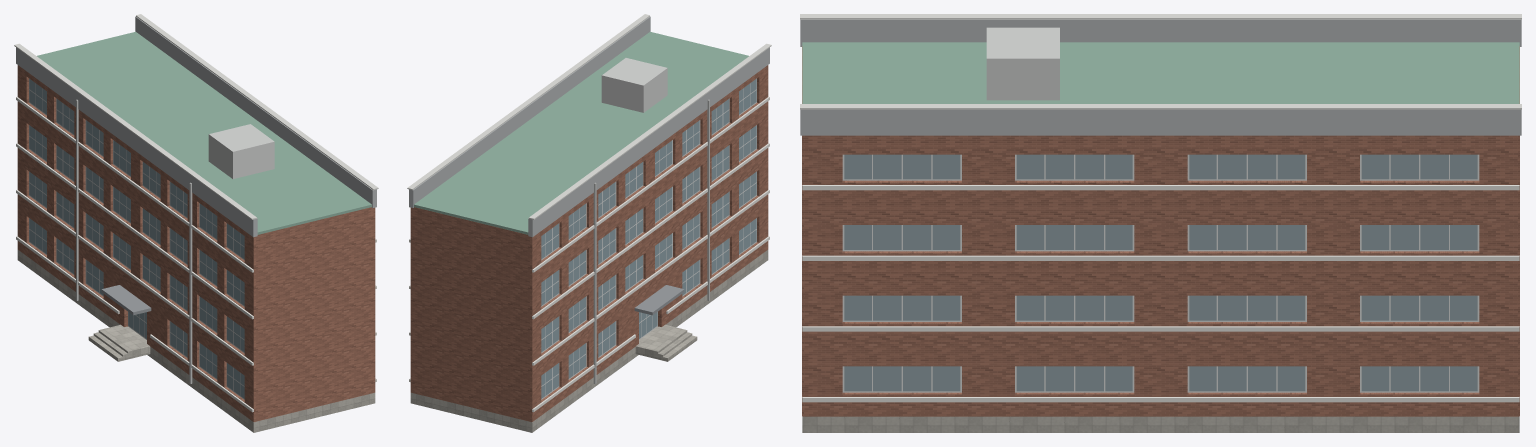
3 views of the same model, side by side, from view 1: azimuth 30°, elevation 25°; view 2: azimuth 150°, elevation 25°; view 3: azimuth 270°, elevation 25° (orthographic). The views are drawn at different scales.
Visible parts, largest first — view 1: west-wing__brick, west-wing__greenroof, west-wing__glass, west-wing__greypanel, west-wing__band, west-wing__frame, west-wing__stone, west-wing__cap, west-wing__roofbox, west-wing__gutter, west-wing__stair-west, west-wing__canopy (+1 smaller); view 2: west-wing__brick, west-wing__greenroof, west-wing__glass, west-wing__greypanel, west-wing__band, west-wing__frame, west-wing__stone, west-wing__cap, west-wing__roofbox, west-wing__gutter, west-wing__stair-west, west-wing__canopy (+1 smaller); view 3: west-wing__brick, west-wing__sideglass, west-wing__greenroof, west-wing__greypanel, west-wing__band, west-wing__stone, west-wing__cap, west-wing__frame, west-wing__roofbox.
Part boxes in pixels (bbox=[...]): west-wing__brick: bbox=[17, 65, 375, 421]; west-wing__greenroof: bbox=[37, 31, 371, 234]; west-wing__glass: bbox=[29, 79, 244, 398]; west-wing__greypanel: bbox=[16, 16, 376, 237]; west-wing__band: bbox=[16, 97, 376, 412]; west-wing__frame: bbox=[29, 78, 244, 399]; west-wing__stone: bbox=[17, 250, 375, 432]; west-wing__cap: bbox=[14, 14, 378, 219]; west-wing__roofbox: bbox=[208, 124, 274, 178]; west-wing__gutter: bbox=[76, 99, 192, 383]; west-wing__stair-west: bbox=[88, 329, 132, 361]; west-wing__canopy: bbox=[101, 285, 151, 315]; west-wing__brick: bbox=[410, 65, 768, 421]; west-wing__greenroof: bbox=[414, 31, 748, 234]; west-wing__glass: bbox=[541, 79, 756, 398]; west-wing__greypanel: bbox=[409, 16, 769, 237]; west-wing__band: bbox=[409, 97, 769, 412]; west-wing__frame: bbox=[541, 78, 756, 399]; west-wing__stone: bbox=[410, 250, 768, 432]; west-wing__cap: bbox=[407, 14, 771, 219]; west-wing__roofbox: bbox=[601, 58, 667, 112]; west-wing__gutter: bbox=[593, 99, 709, 383]; west-wing__stair-west: bbox=[653, 329, 697, 361]; west-wing__canopy: bbox=[634, 285, 684, 315]; west-wing__brick: bbox=[802, 46, 1519, 416]; west-wing__sideglass: bbox=[844, 154, 1477, 391]; west-wing__greenroof: bbox=[802, 42, 1519, 103]; west-wing__greypanel: bbox=[800, 19, 1521, 135]; west-wing__band: bbox=[802, 185, 1519, 402]; west-wing__stone: bbox=[802, 416, 1519, 432]; west-wing__cap: bbox=[800, 14, 1521, 109]; west-wing__frame: bbox=[842, 154, 1479, 392]; west-wing__roofbox: bbox=[986, 27, 1059, 100].
Bounding box in the file's own units: 11.97 × 16.59 × 31.49.
13 materials, 2 textured.
